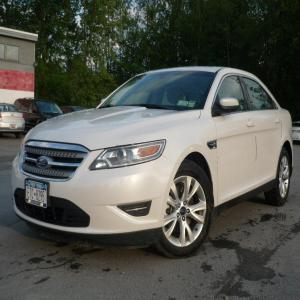Vehicle-registration-plate: (26, 178, 49, 210), (11, 126, 17, 129)
